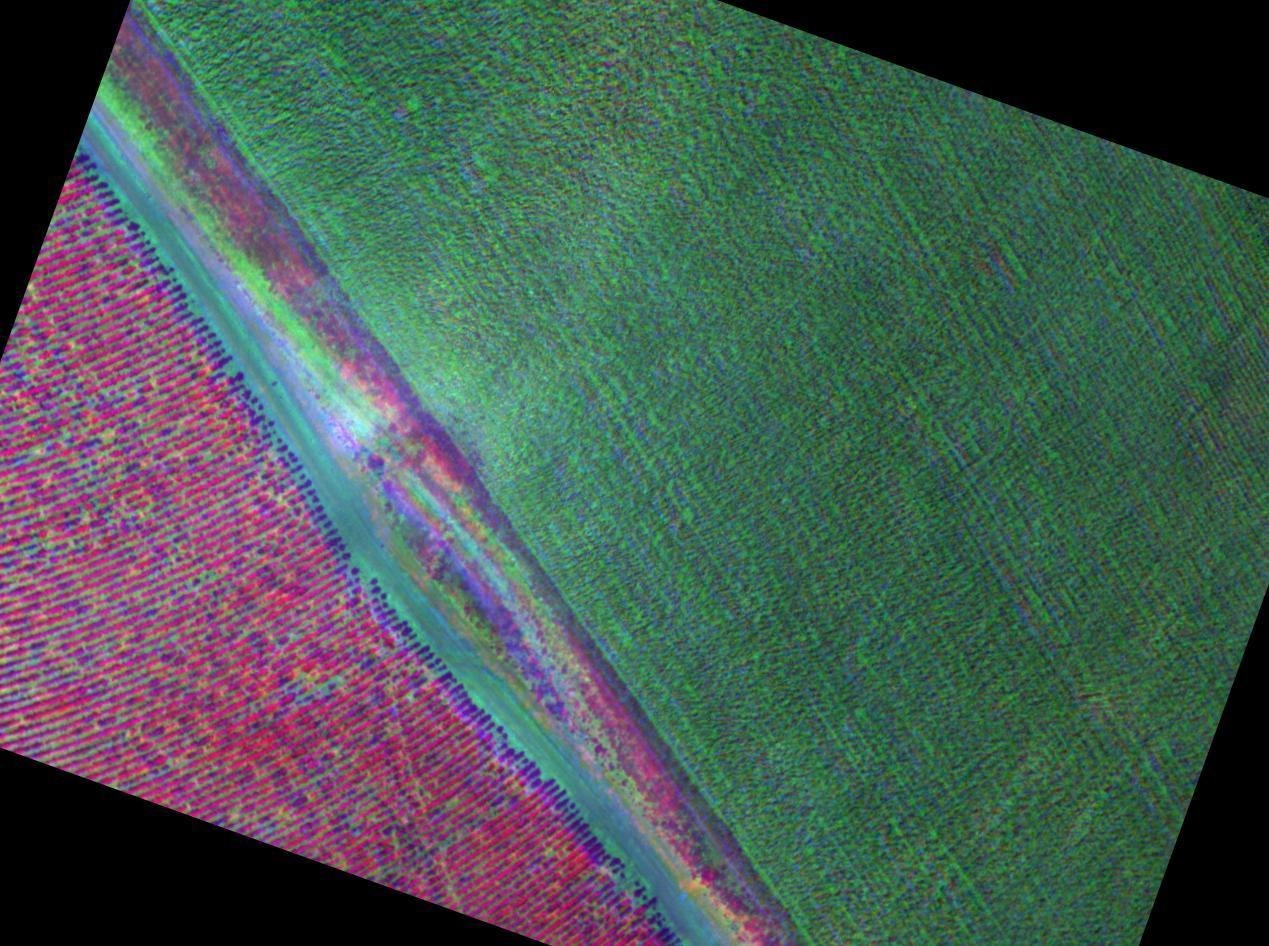dc: (271, 613, 358, 706), (6, 620, 75, 708), (143, 513, 217, 585), (1, 360, 83, 423), (16, 503, 81, 555)
